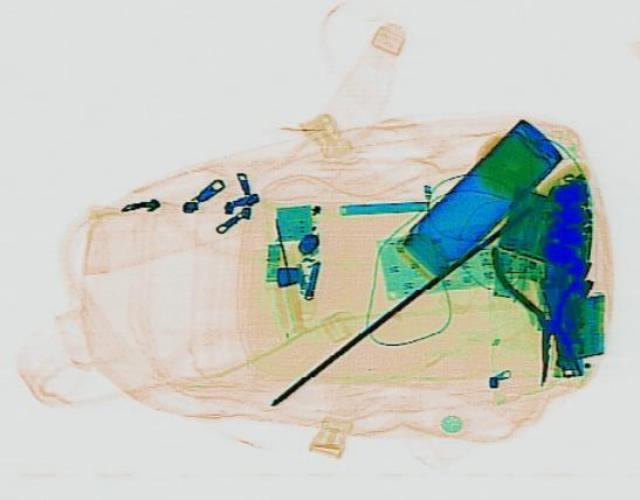Pliers: (488, 237, 602, 385)
